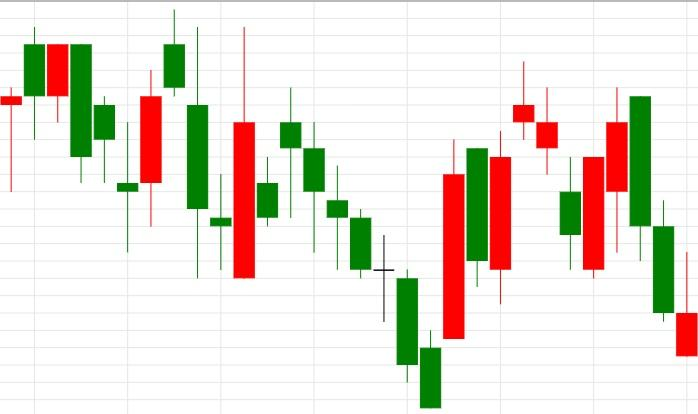bullish_engulfing_rise: (162, 9, 256, 280), (512, 61, 605, 279)
three_black_crows_fall: (209, 26, 349, 280)
